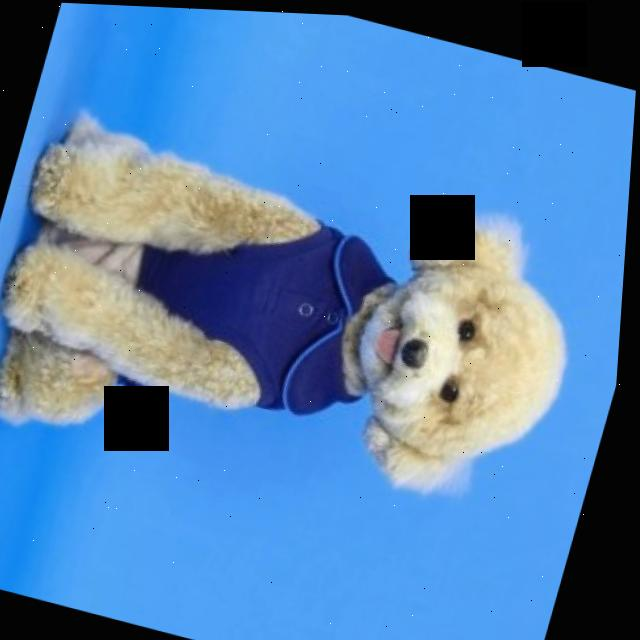cloth: (141, 220, 395, 409)
